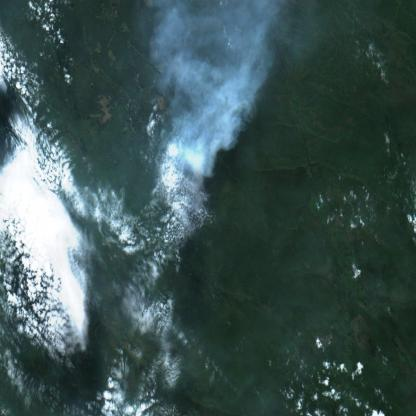fire: (165, 160, 210, 240)
